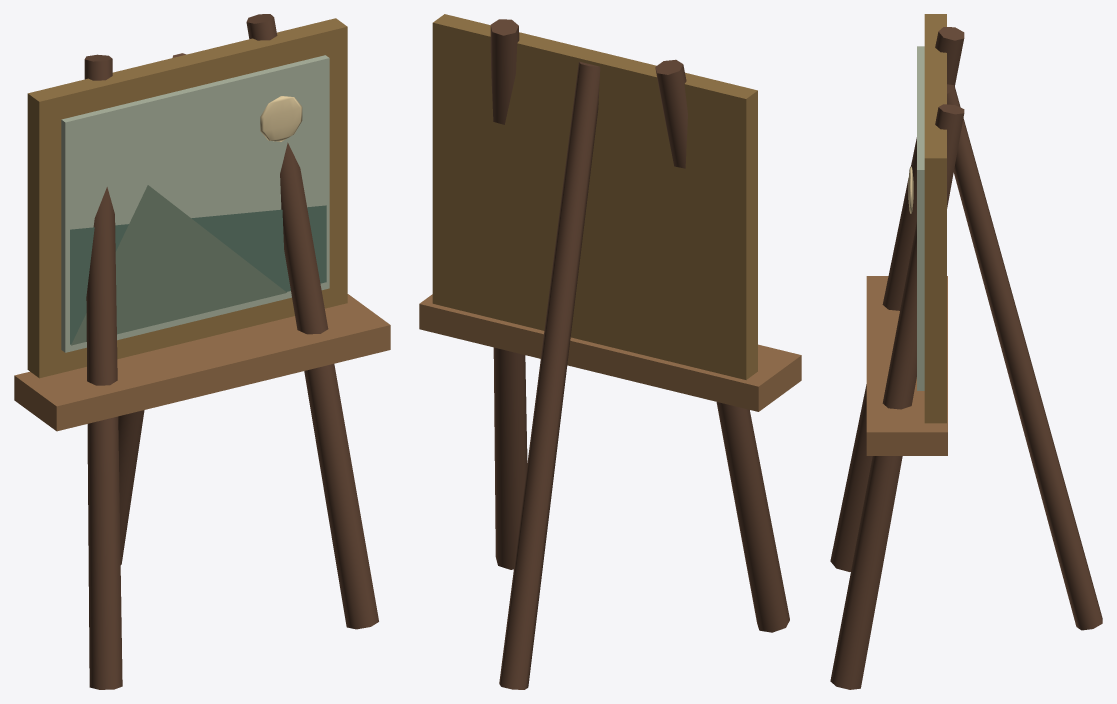
File: Decor_Painting.glb
3 renders of one model, left to right at view 1: azimuth 30°, elevation 25°; view 2: azimuth 150°, elevation 25°; view 3: azimuth 270°, elevation 25°, orthographic. The views are drawn at different scales.
Visible parts, largest first — view 1: _MeshInstance3D_4344, _MeshInstance3D_4343, _MeshInstance3D_4342, _MeshInstance3D_4339, _MeshInstance3D_4340, _MeshInstance3D_4346, _MeshInstance3D_4345, _MeshInstance3D_4341, _MeshInstance3D_4347; view 2: _MeshInstance3D_4343, _MeshInstance3D_4341, _MeshInstance3D_4342, _MeshInstance3D_4339, _MeshInstance3D_4340; view 3: _MeshInstance3D_4341, _MeshInstance3D_4340, _MeshInstance3D_4343, _MeshInstance3D_4342, _MeshInstance3D_4339, _MeshInstance3D_4344.
Part boxes in pixels (x1,y1,x2,y2): _MeshInstance3D_4344: (61,55,329,352); _MeshInstance3D_4343: (27,18,347,378); _MeshInstance3D_4342: (14,294,390,431); _MeshInstance3D_4339: (84,54,122,689); _MeshInstance3D_4340: (246,14,378,629); _MeshInstance3D_4346: (71,185,286,345); _MeshInstance3D_4345: (70,205,326,344); _MeshInstance3D_4341: (118,53,186,564); _MeshInstance3D_4347: (260,96,302,141); _MeshInstance3D_4343: (432,14,757,379); _MeshInstance3D_4341: (499,61,600,689); _MeshInstance3D_4342: (419,294,801,411); _MeshInstance3D_4339: (655,59,789,632); _MeshInstance3D_4340: (490,19,527,569); _MeshInstance3D_4341: (947,84,1102,630); _MeshInstance3D_4340: (830,104,964,689); _MeshInstance3D_4343: (924,14,946,423); _MeshInstance3D_4342: (866,276,947,455); _MeshInstance3D_4339: (830,27,964,571); _MeshInstance3D_4344: (917,46,924,390).
Bounding box in the file's own units: 0.91 × 1.51 × 0.67.
